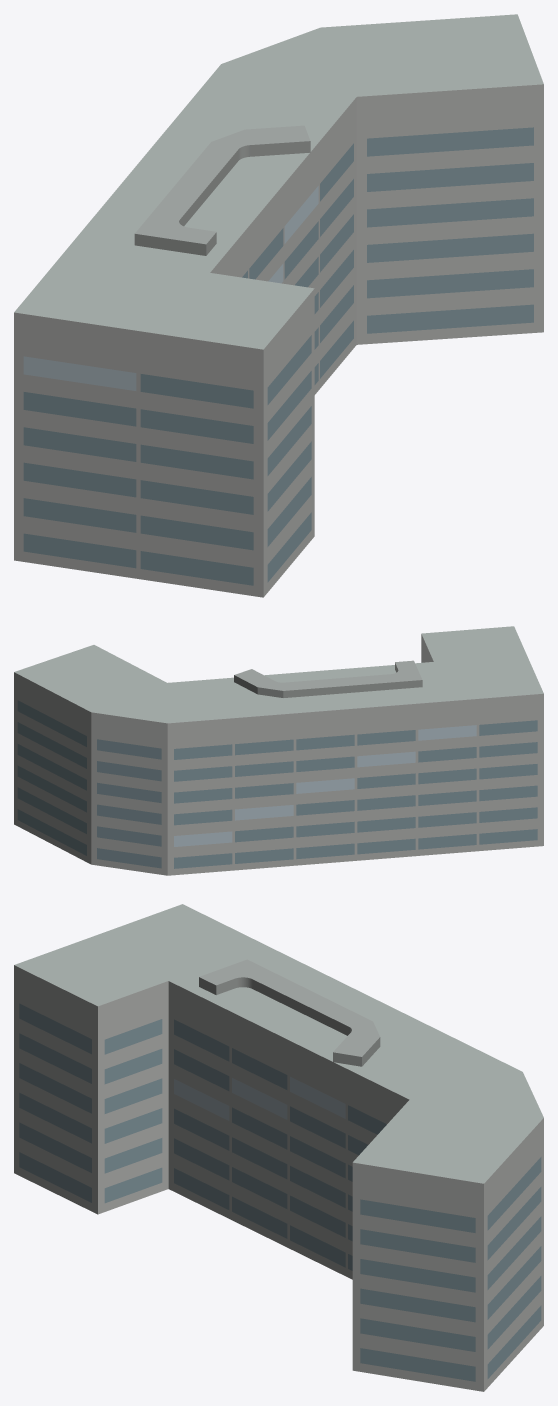
Rendered from fallback-dh-honor-hills-323.glb.
3 renders of one model, top to bottom at view 1: azimuth 30°, elevation 25°; view 2: azimuth 150°, elevation 25°; view 3: azimuth 270°, elevation 25°, orthographic. The views are drawn at different scales.
Visible parts, largest first — view 1: fallback-dh-honor-hills-323; view 2: fallback-dh-honor-hills-323; view 3: fallback-dh-honor-hills-323.
Part boxes in pixels (x1,y1,x2,y2): fallback-dh-honor-hills-323: [14, 14, 543, 597]; fallback-dh-honor-hills-323: [14, 626, 543, 875]; fallback-dh-honor-hills-323: [14, 904, 543, 1391].
Bounding box in the file's own units: 63.33 × 23 × 50.69.
